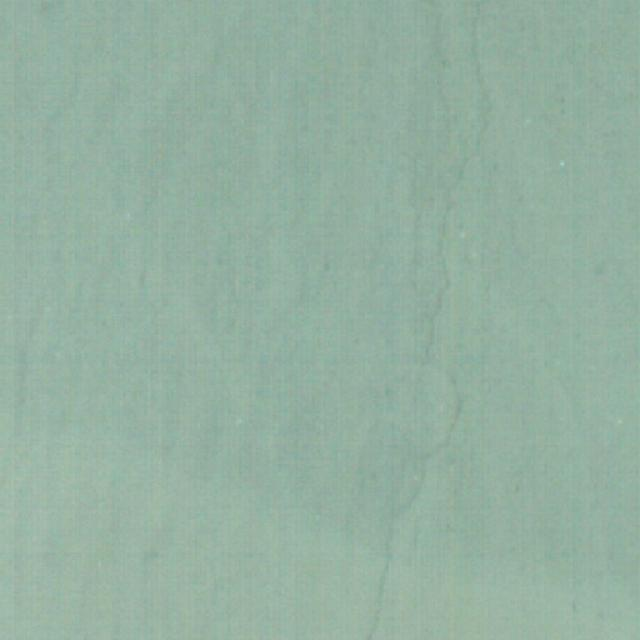Longitudinal: (366, 3, 502, 640)
